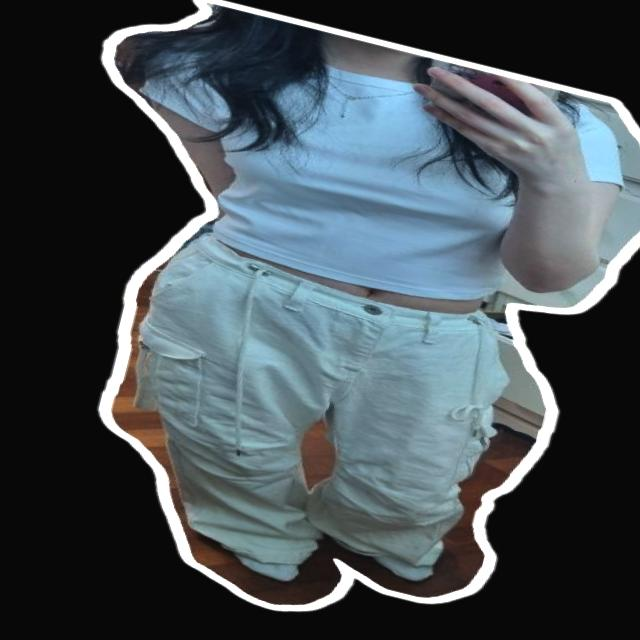cottonpants: (95, 226, 525, 610)
shortsleeve: (39, 0, 640, 351)
